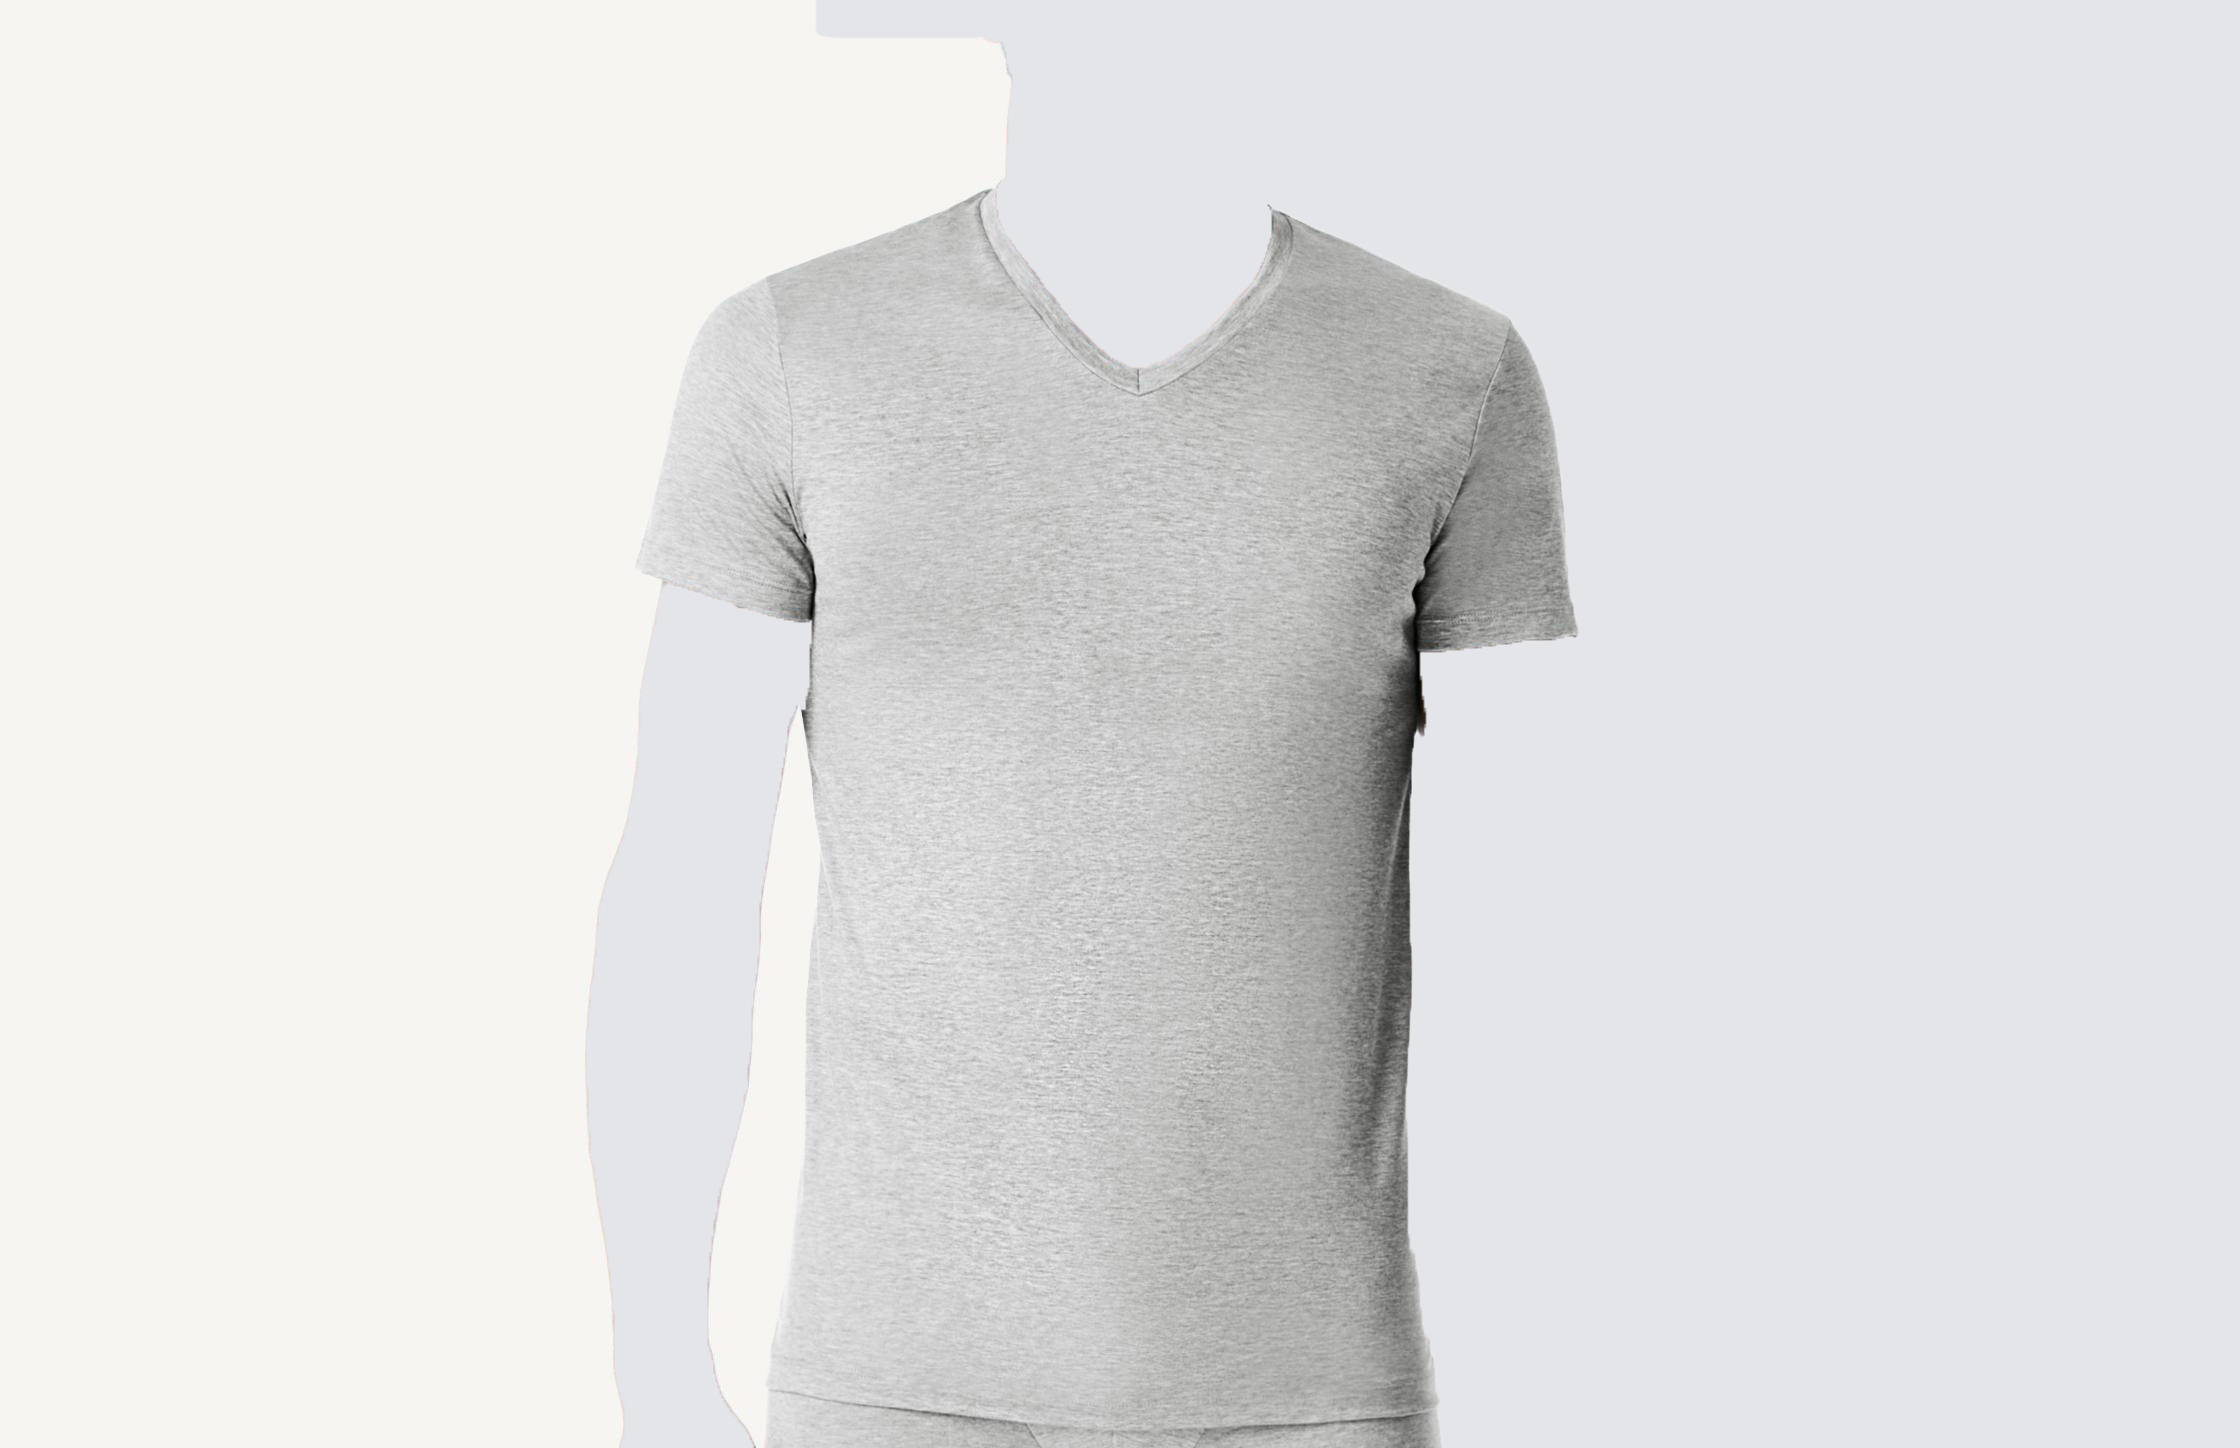teeshirt: (633, 189, 1584, 1446)
